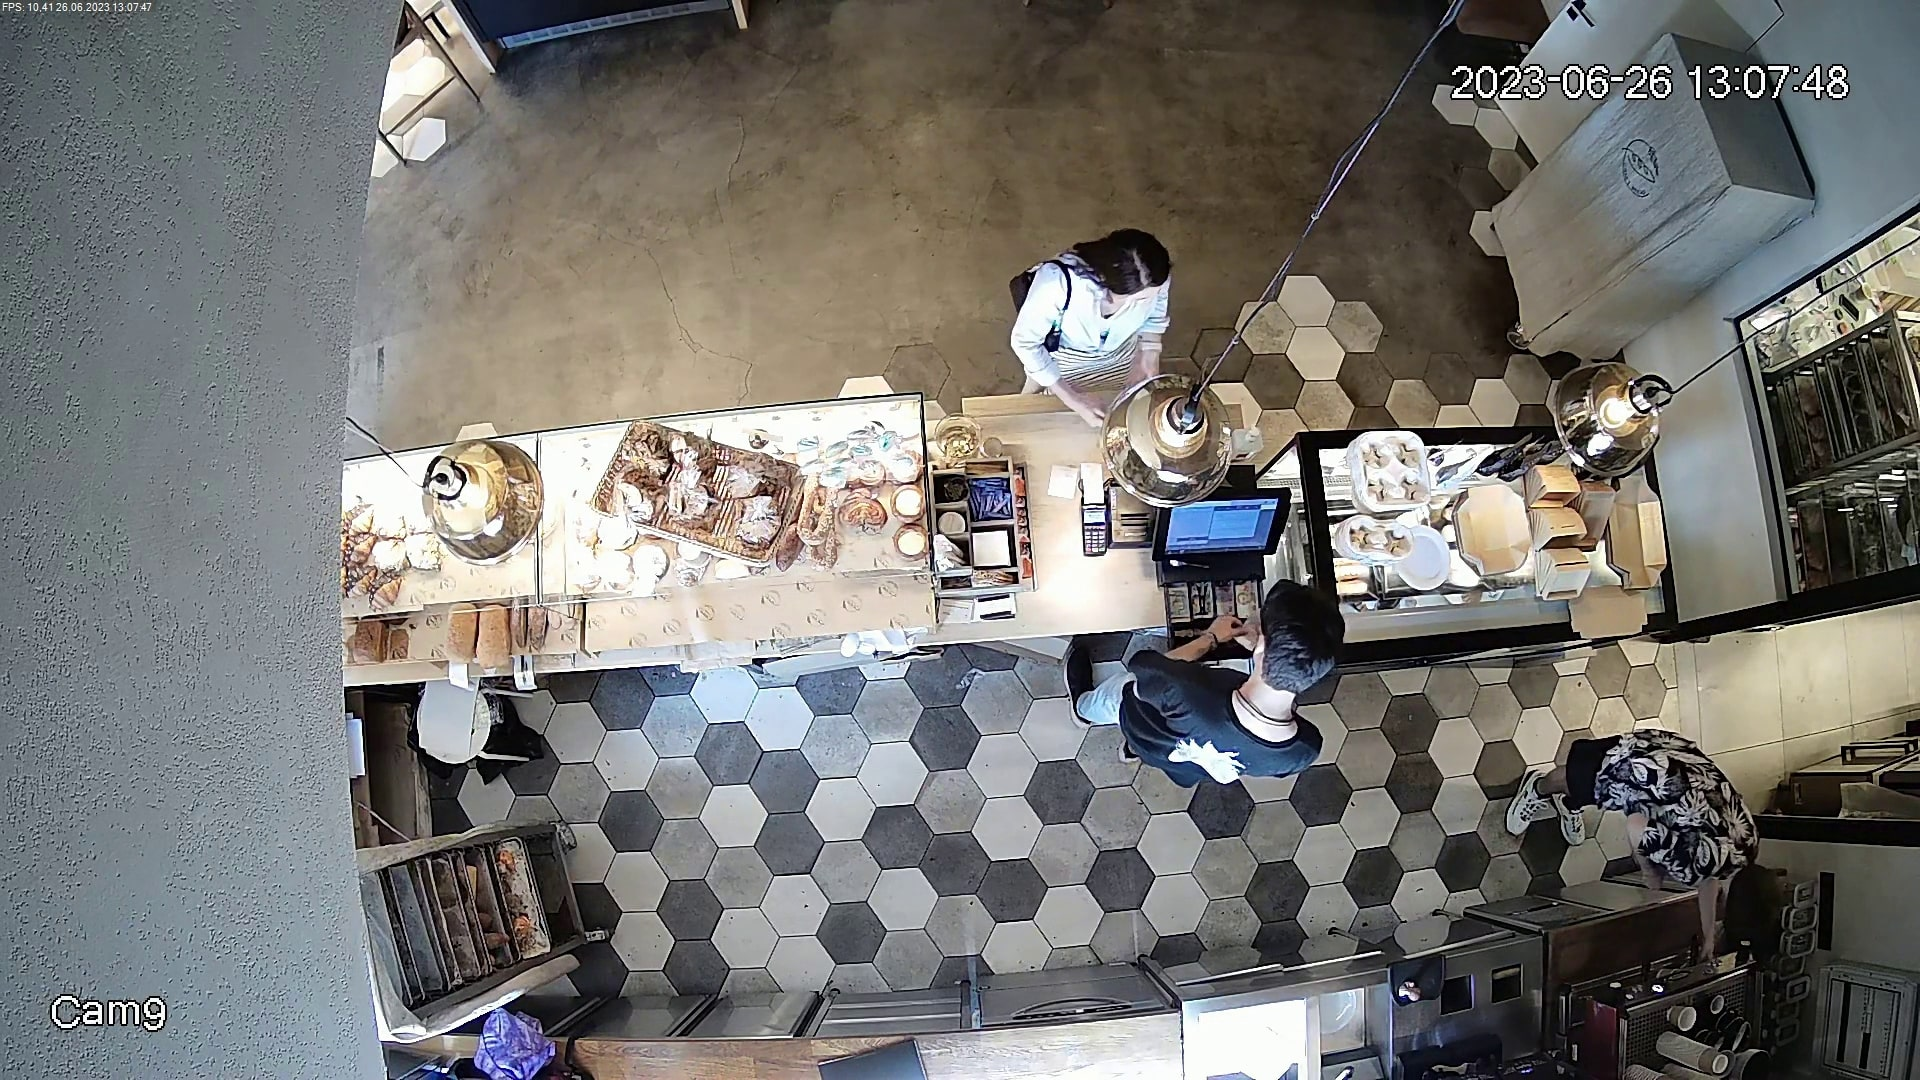barcounter: (350, 442, 1671, 676)
openedcash: (1163, 484, 1290, 636)
person: (1510, 705, 1778, 927), (1061, 626, 1356, 785), (986, 227, 1182, 415)
